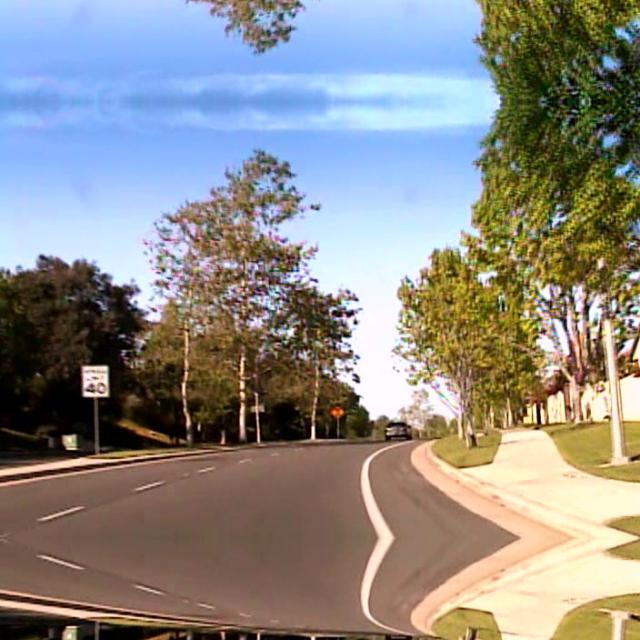signalAhead: (328, 404, 344, 418)
